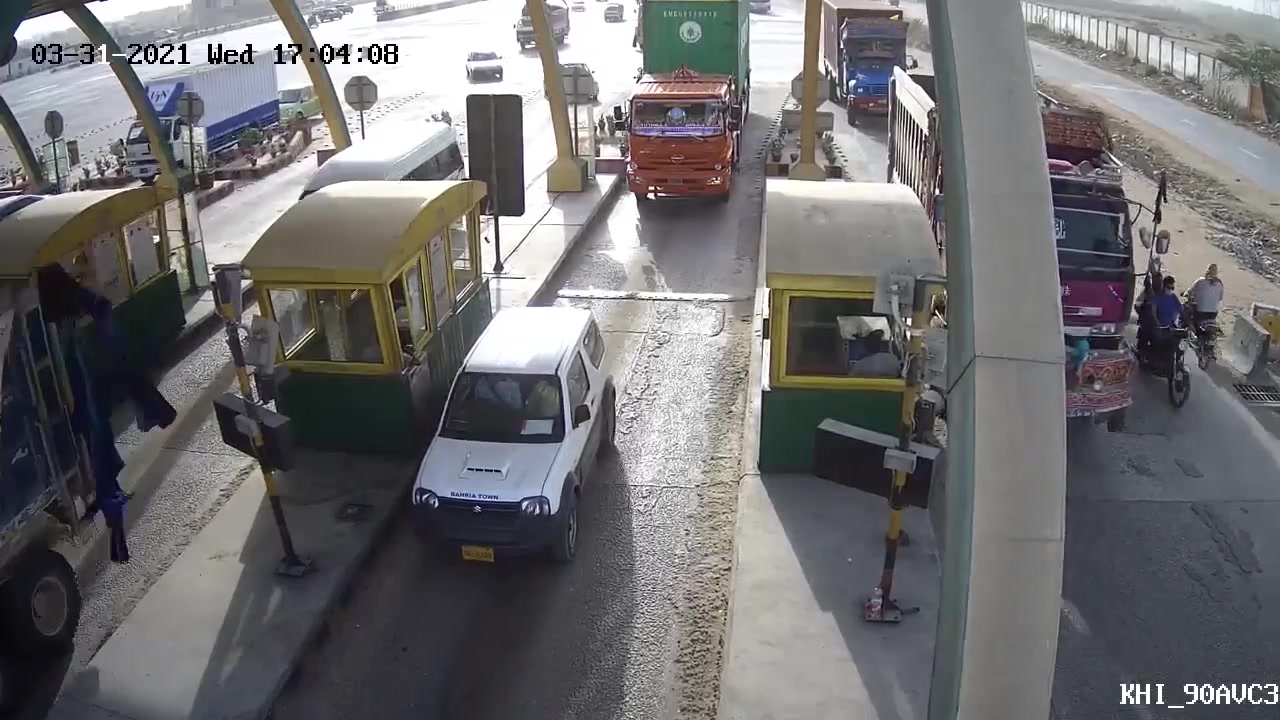F1: (407, 301, 622, 577)
F6: (616, 4, 746, 218)
